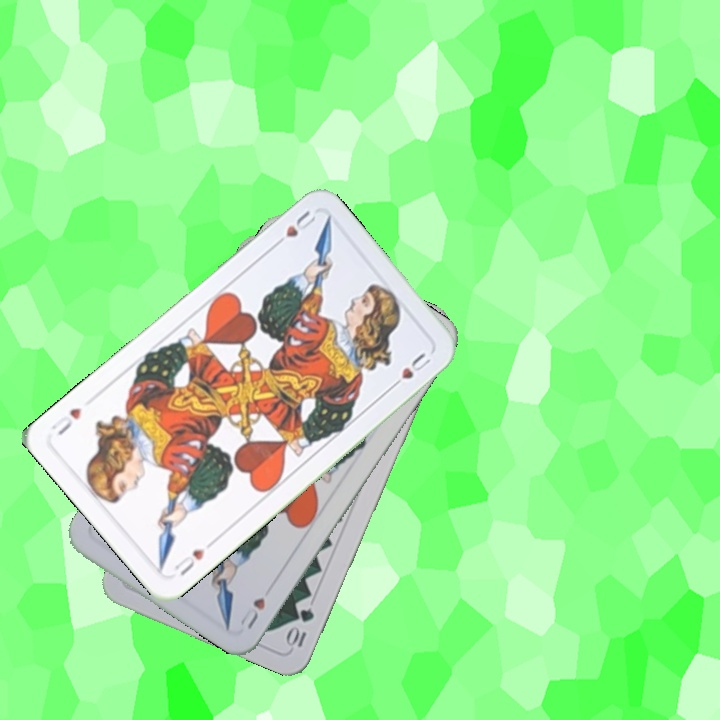G10: (283, 604, 317, 651)
HU: (269, 206, 319, 251), (169, 544, 208, 578), (236, 593, 268, 632)
